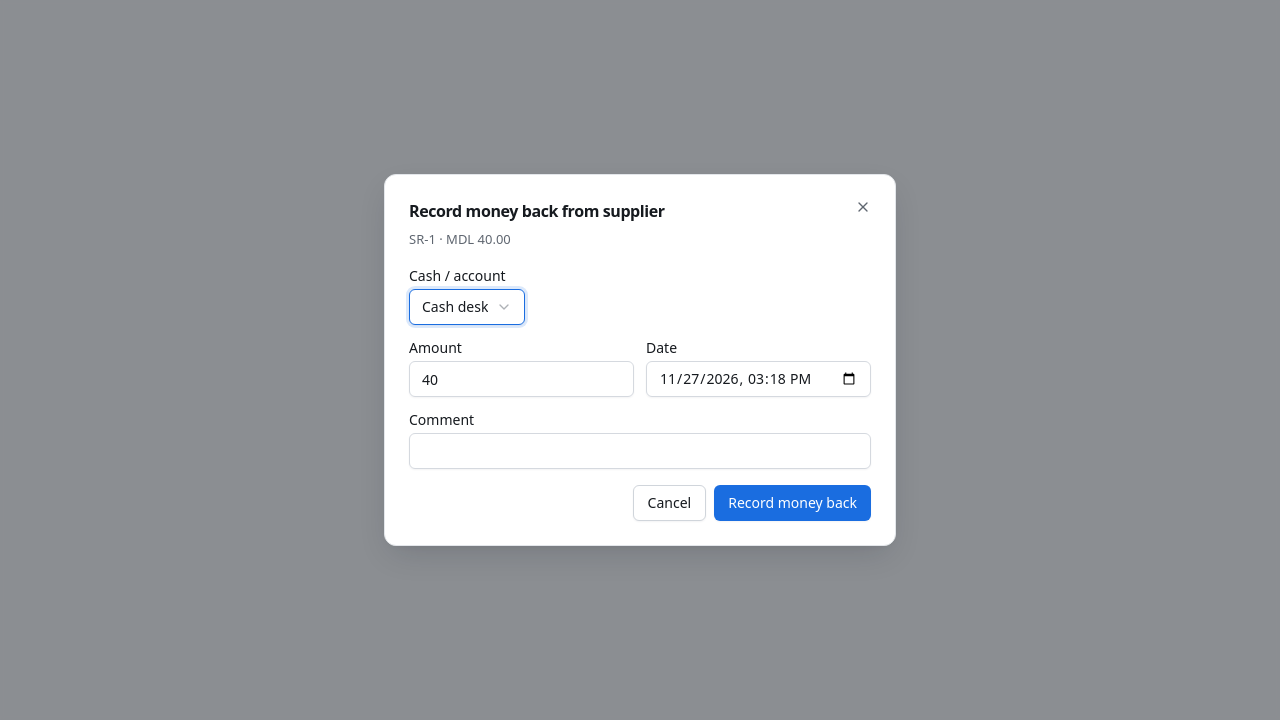
Test: SupplierReturnRefundDialog › validates amount ≤ return total and calls record mutation
Later steps or results of the test are not shown.
Replace the text in the field labelled "Amount" with "50" at x=522, y=379, box x1=409 y1=361 x2=634 y2=397
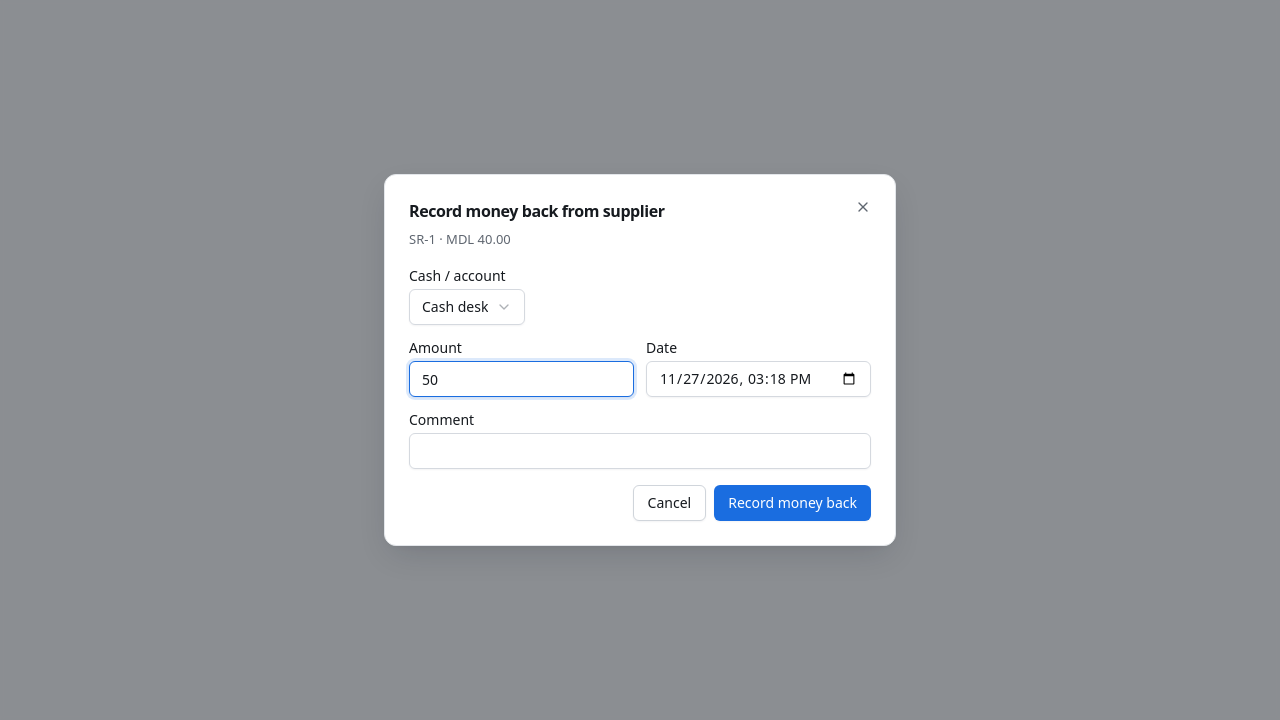
Click the button "Record money back".
click(793, 503)  # box x1=714 y1=485 x2=871 y2=521
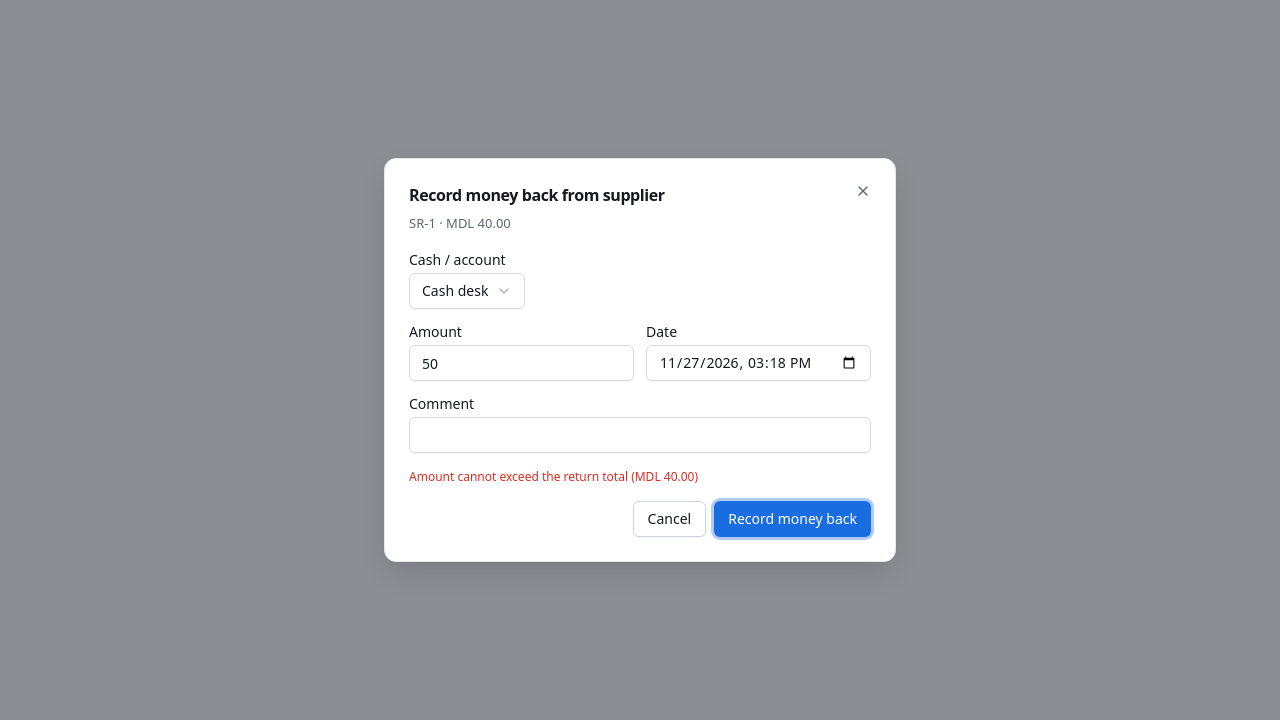
Check: the message reads "Amount cannot exceed the return total (MDL 40.00)", box x1=409 y1=468 x2=698 y2=485
